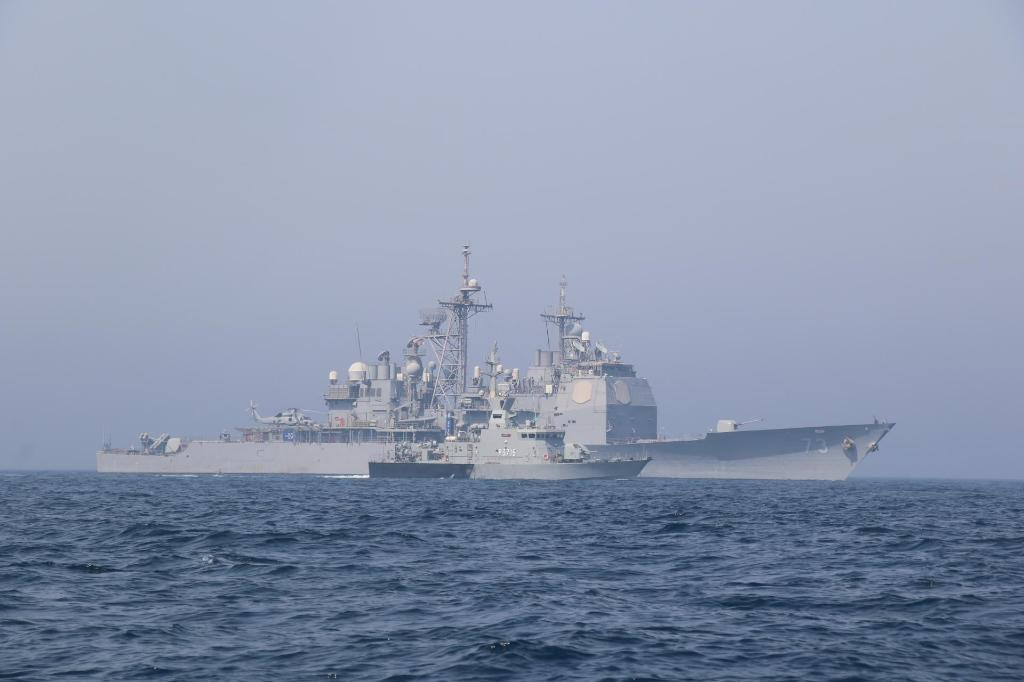Warship: (94, 239, 896, 483), (366, 405, 650, 485)
